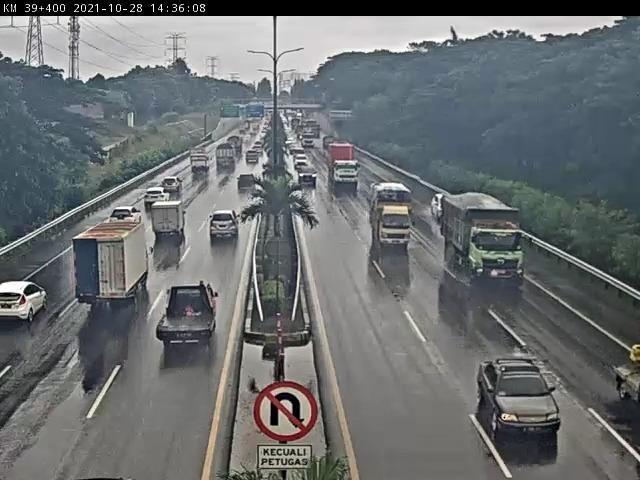car: (479, 361, 563, 430), (155, 281, 217, 358), (2, 276, 57, 330), (606, 345, 640, 425), (209, 209, 245, 259), (152, 208, 191, 252), (430, 187, 450, 212), (108, 211, 136, 228), (159, 179, 184, 197), (144, 192, 163, 212), (238, 182, 257, 193), (245, 153, 258, 167), (307, 168, 317, 183), (297, 152, 306, 166)
truck: (77, 213, 157, 305), (440, 198, 527, 273), (363, 200, 416, 255), (331, 144, 365, 195), (220, 149, 239, 174), (188, 153, 208, 174)
